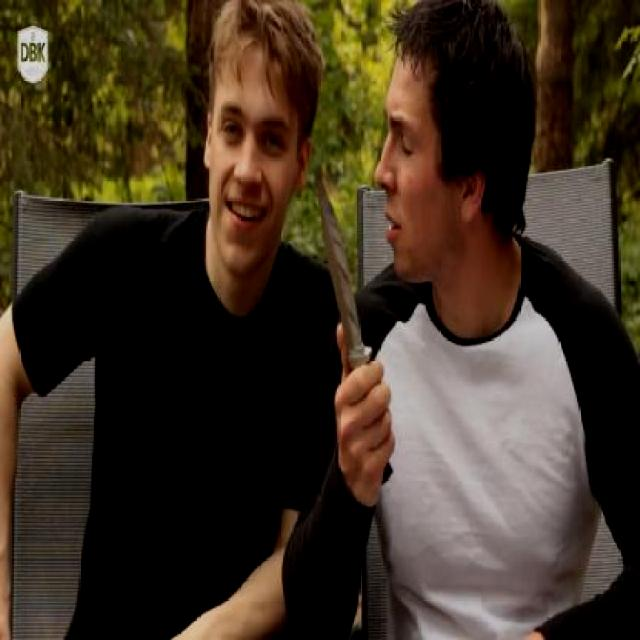knife: (312, 161, 398, 457)
